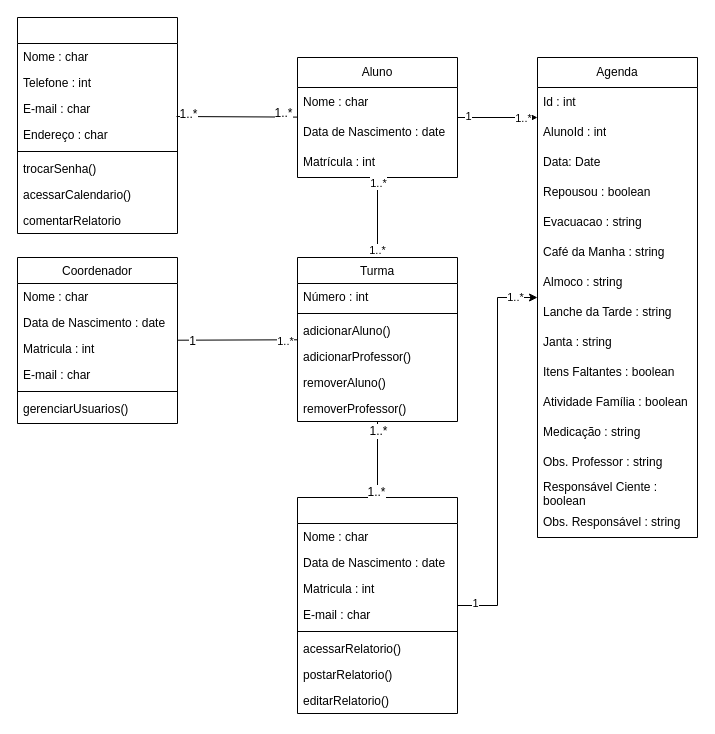
The diagram is 715 pixels wide and 734 high, and some of its shapes have lost their labels. The shapes that lost their labels are listed below. From the top down, each one's box as (x1, y1, x2, y2) in pixels, then its label:
(16, 16, 178, 234): Responsável
(296, 496, 458, 714): Professor
